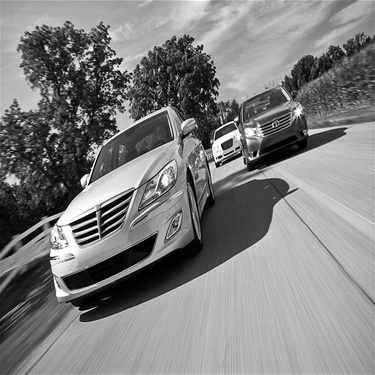car: (34, 96, 220, 310), (239, 73, 331, 167), (206, 88, 241, 164)
